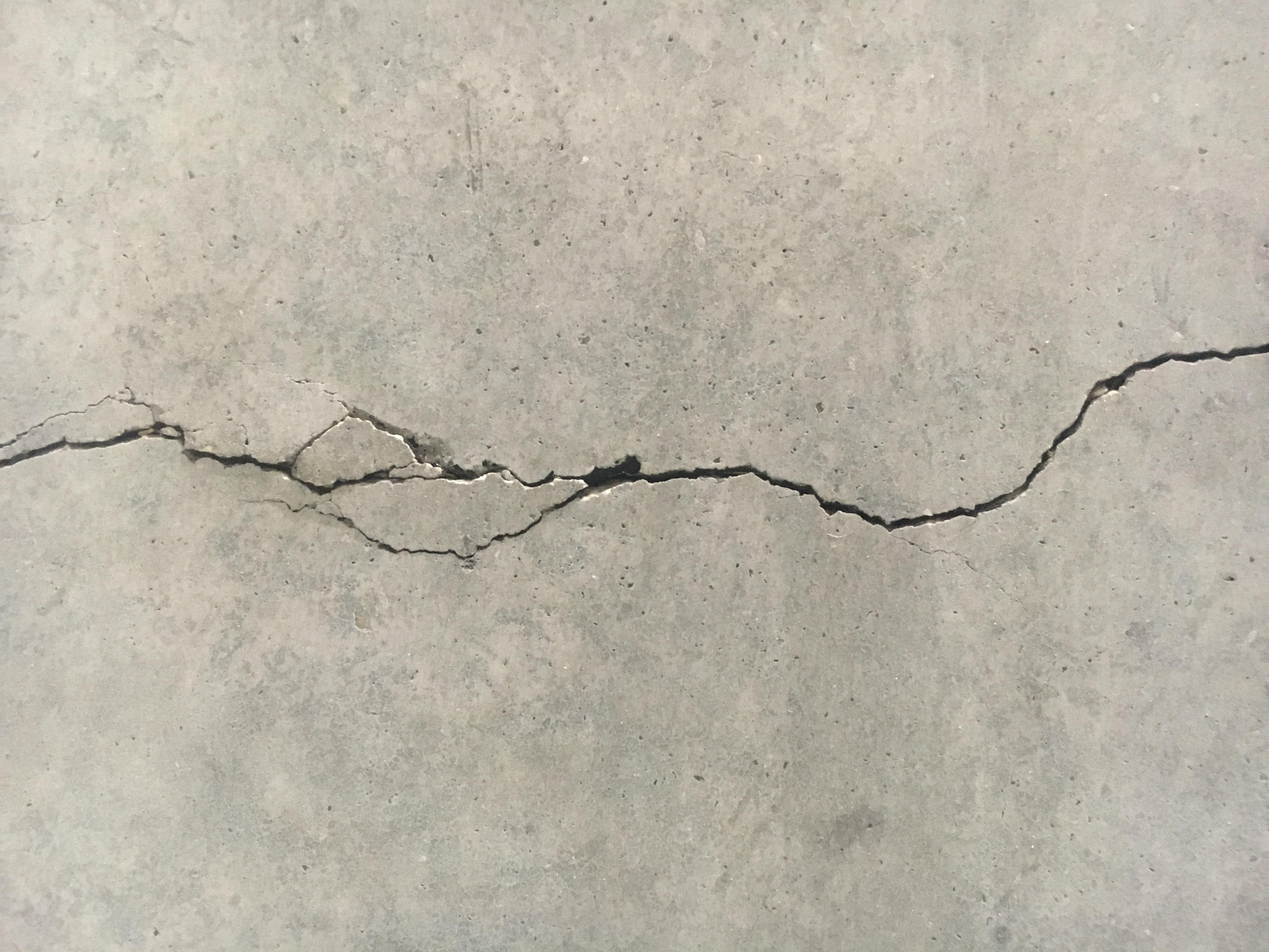Structural-Crack: (3, 341, 1266, 565)
